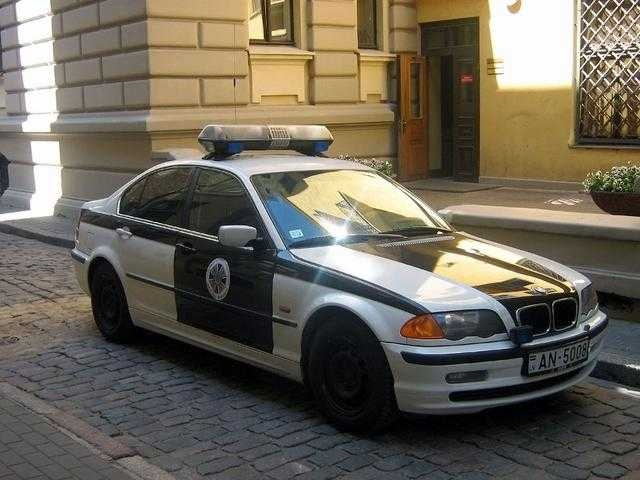Police Car: (62, 93, 612, 454)
